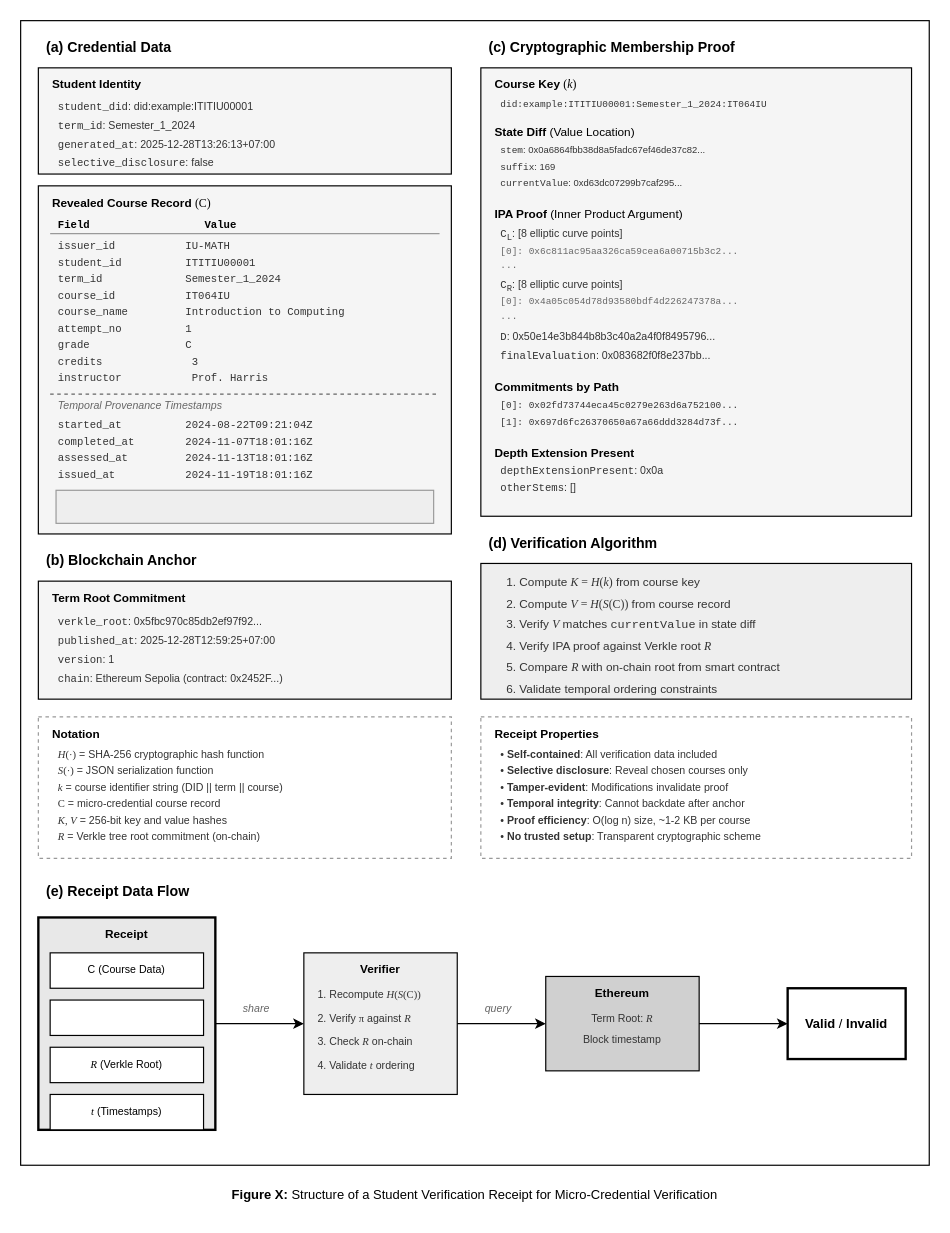
This 950x1233 diagram has some shape labels left out. The shapes that lost their labels are listed below. From the top down, each one's centre as x and y in pixels, then its label:
At pixel 244 506: "t start < t complete < t assess < t issue < t publish".
At pixel 126 1017: "π (IPA Proof)".
